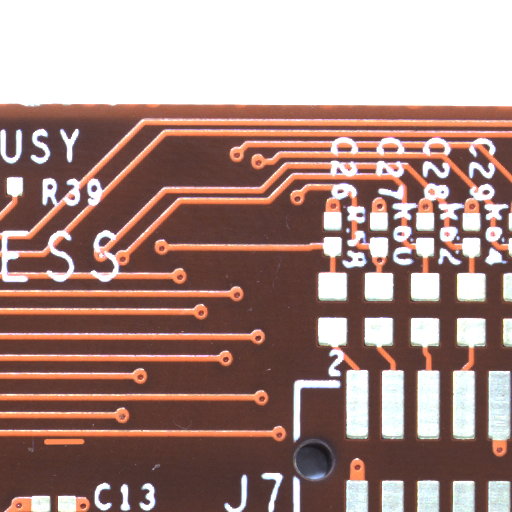Spurious_copper: (63, 441, 106, 450)
